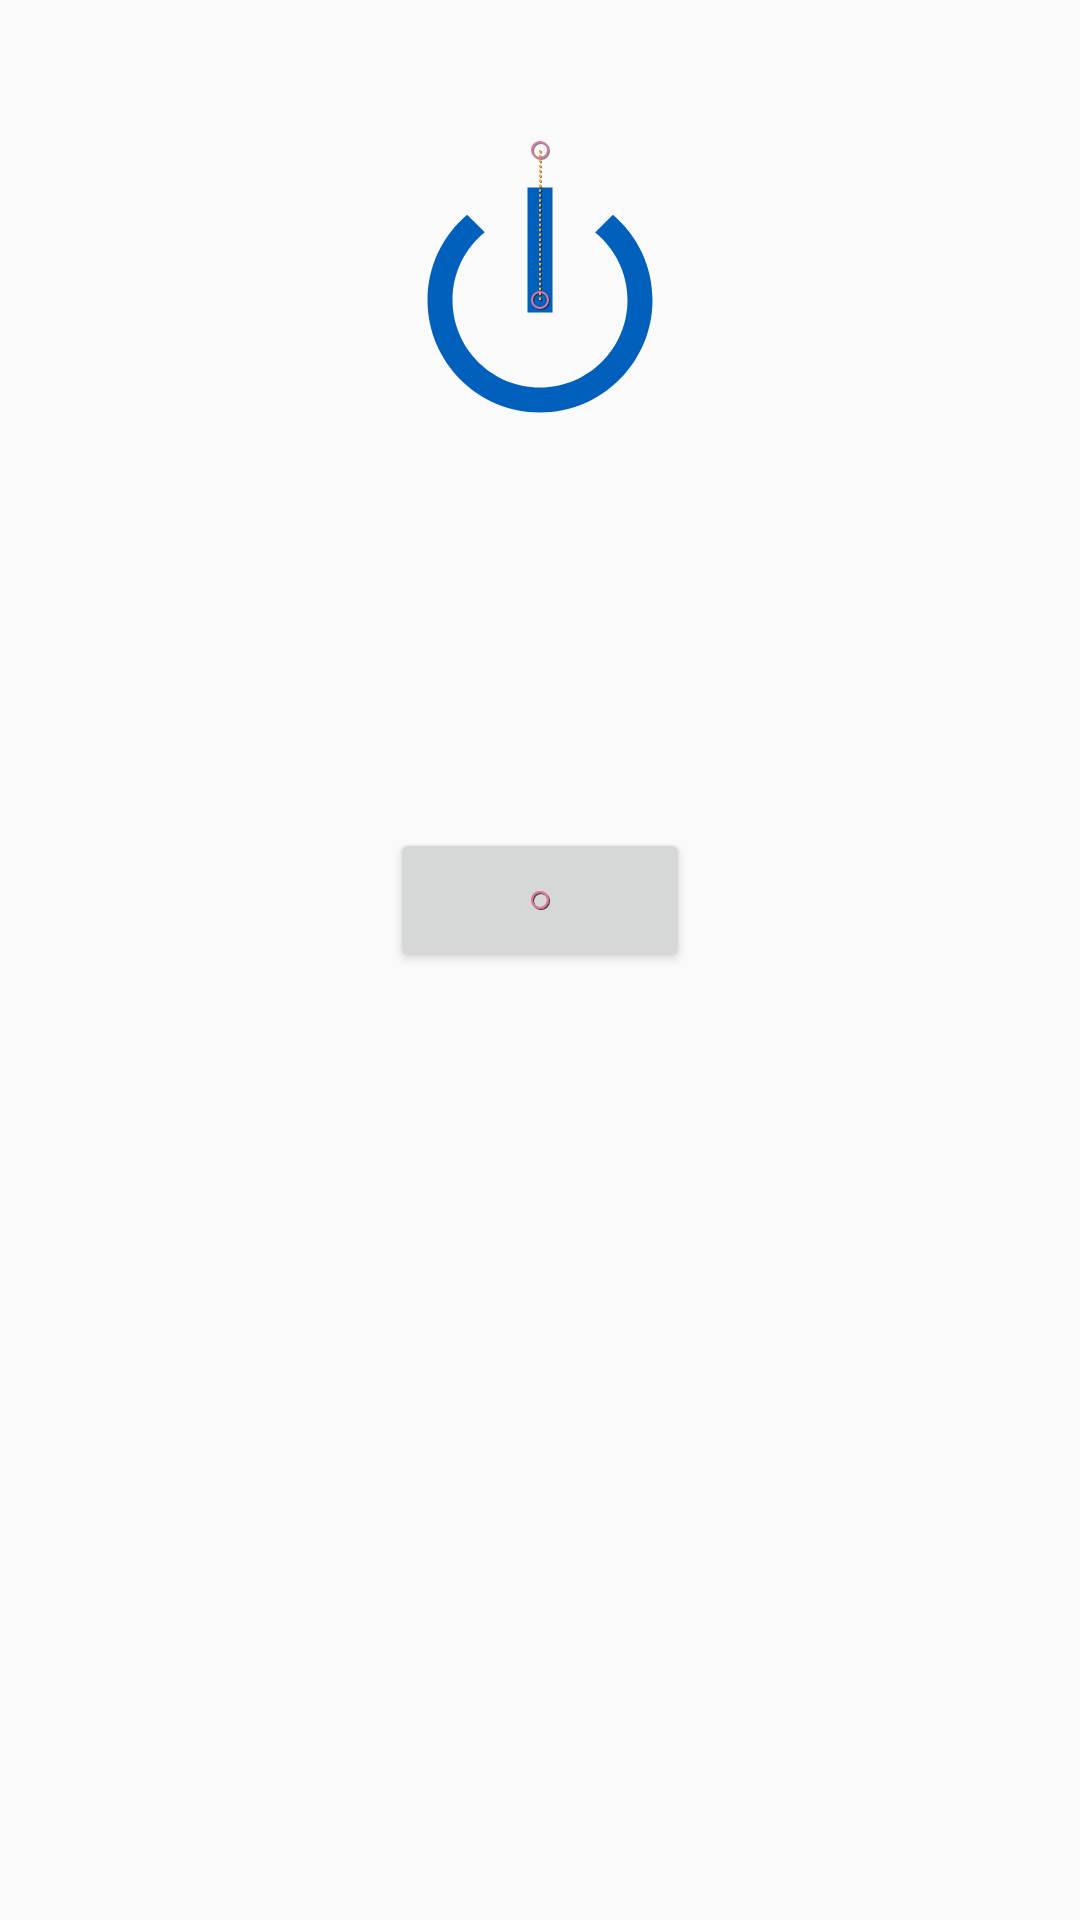

Named icons in this screenshot (1080w x 1920h) and their centers, point (x, y):
power settings: point (540, 281)
